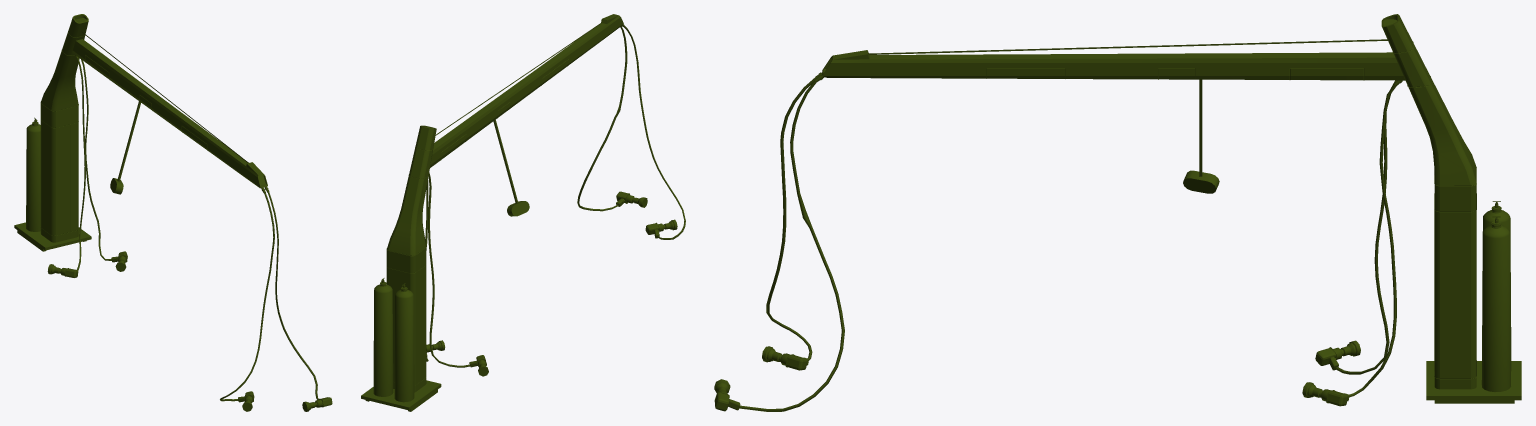
The model's file is PitStop Equip01_M.fbx.
3 renders of one model, left to right at view 1: azimuth 30°, elevation 25°; view 2: azimuth 150°, elevation 25°; view 3: azimuth 270°, elevation 25°, orthographic. The views are drawn at different scales.
Parts seen in each view (by area): view 1: PitStop Equip01_NKit, PitStop Equip01_NKit_Wires, PSE_Cylinder1, PitStop Equip01_NKit_Pitguns, PitStop Equip01_NKit_Detail; view 2: PitStop Equip01_NKit, PSE_Cylinder2, PSE_Cylinder1, PitStop Equip01_NKit_Wires, PitStop Equip01_NKit_Pitguns; view 3: PitStop Equip01_NKit, PitStop Equip01_NKit_Wires, PSE_Cylinder2, PitStop Equip01_NKit_Pitguns, PitStop Equip01_NKit_Detail.
Boxes of the visible parts, x1,y1,x2,y2 form: PitStop Equip01_NKit: (14,14,269,251); PitStop Equip01_NKit_Wires: (76,58,318,401); PSE_Cylinder1: (26,117,40,231); PitStop Equip01_NKit_Pitguns: (47,251,332,411); PitStop Equip01_NKit_Detail: (41,31,207,235); PitStop Equip01_NKit: (361,14,624,411); PSE_Cylinder2: (373,278,393,396); PSE_Cylinder1: (394,283,414,402); PitStop Equip01_NKit_Wires: (425,25,685,367); PitStop Equip01_NKit_Pitguns: (426,191,677,376); PitStop Equip01_NKit: (815,14,1521,403); PitStop Equip01_NKit_Wires: (739,77,1396,411); PSE_Cylinder2: (1481,216,1510,391); PitStop Equip01_NKit_Pitguns: (714,340,1360,411); PitStop Equip01_NKit_Detail: (986,42,1476,379).
Bounding box in the file's own units: 0.5291 × 1.27 × 2.5.
